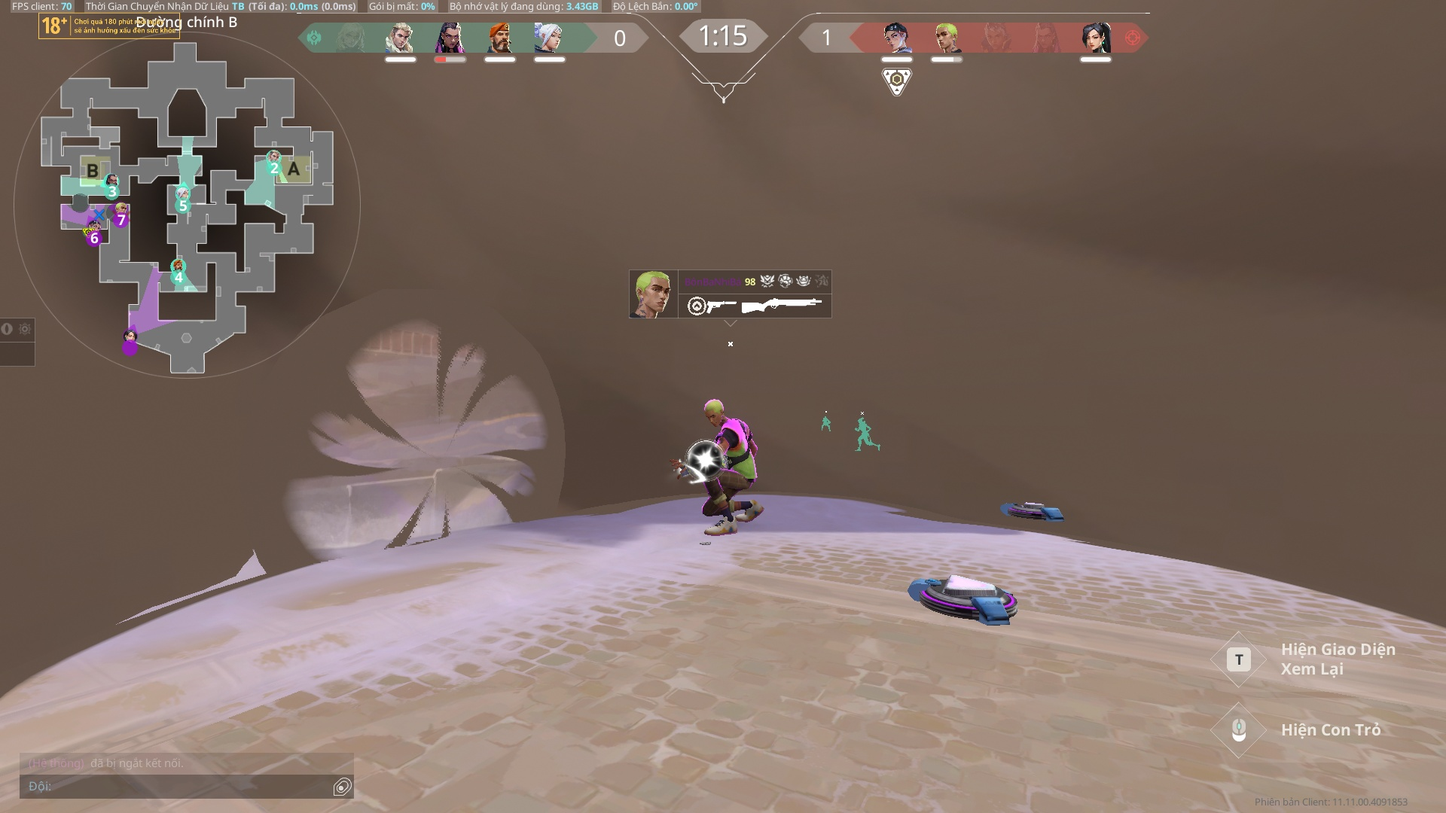body: (712, 420, 758, 471)
head: (700, 398, 728, 422)
